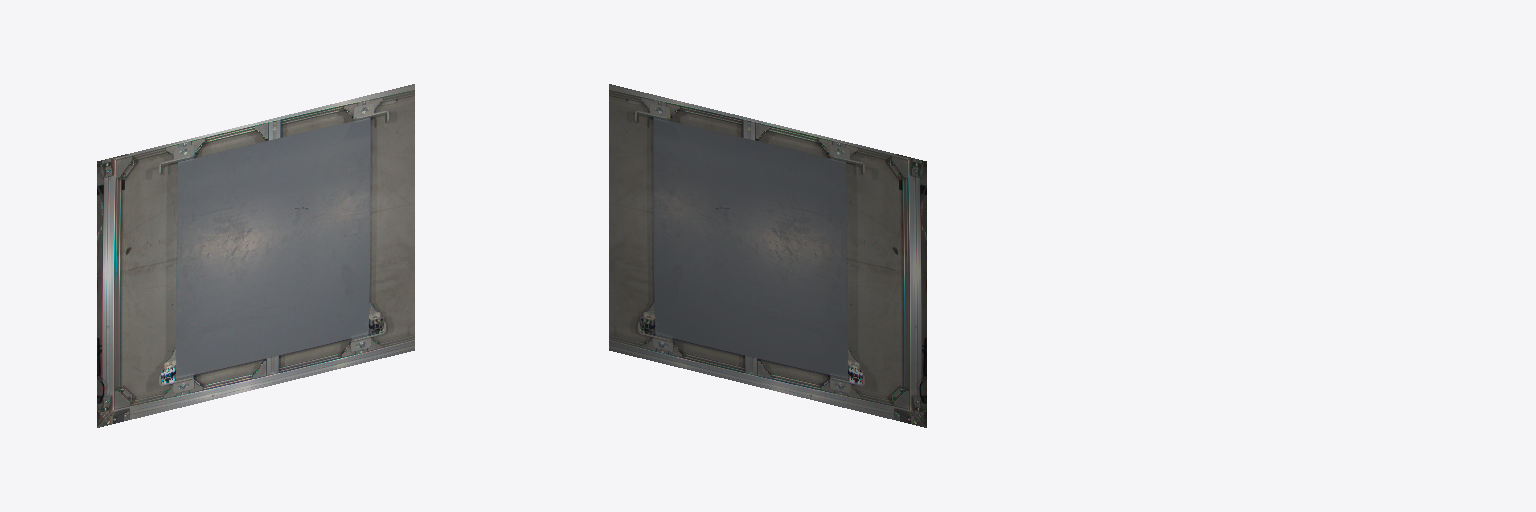
3 renders of one model, left to right at view 1: azimuth 30°, elevation 25°; view 2: azimuth 150°, elevation 25°; view 3: azimuth 270°, elevation 25°, orthographic.
Visible parts, largest first — view 1: plane; view 2: plane; view 3: none.
Part boxes in pixels (x1,y1,x2,y2): plane: (97,84,414,427); plane: (609,84,926,427).
Size of the model in its own units: 1 by 0.8 by 0.
Materials: 1 (1 with a texture image).